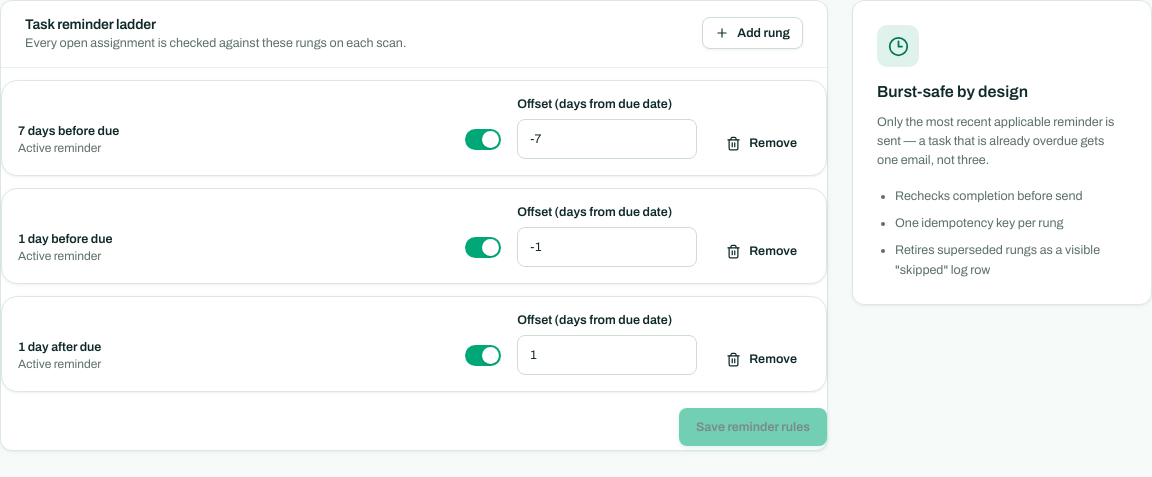
Scenario: RemindersTab ladder editing › removes a rung explicitly, and names the way back once the ladder is empty
Click the button "Remove" in the row of "7 days before due": (762, 143) [713, 127, 810, 159]
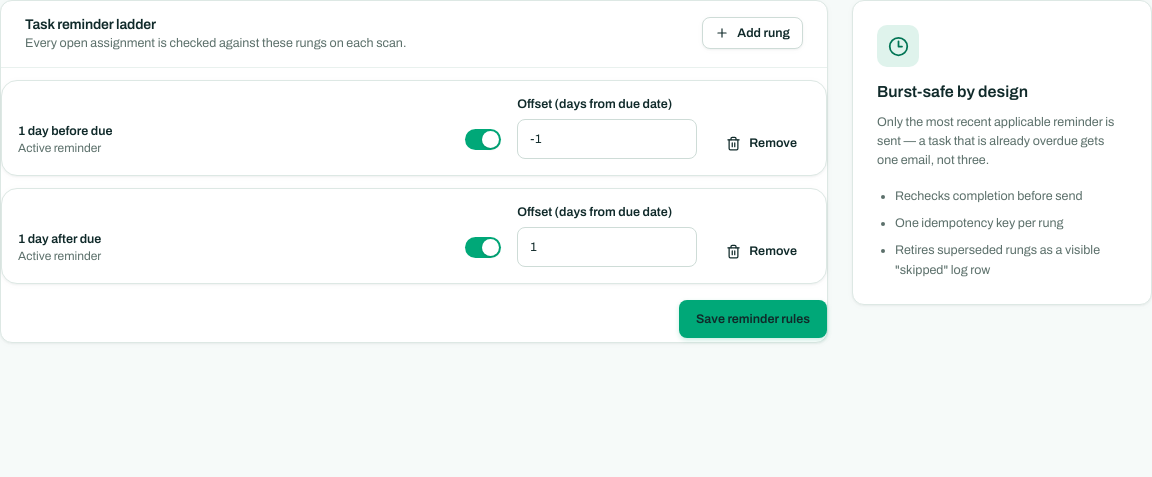
Click the button "Remove" in the row of "1 day before due": (762, 143) [713, 127, 810, 159]
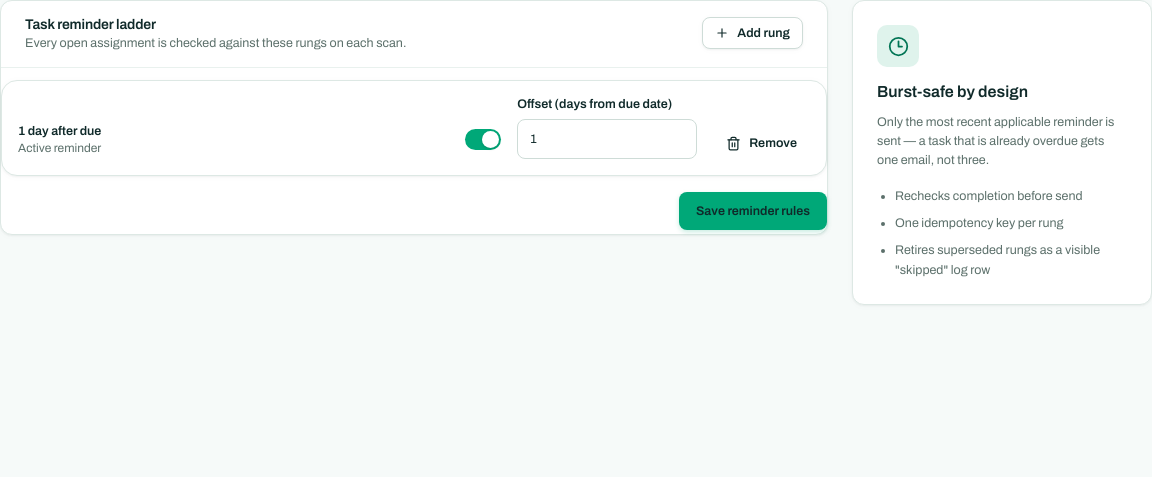
Click the button "Remove": (762, 143) [713, 127, 810, 159]
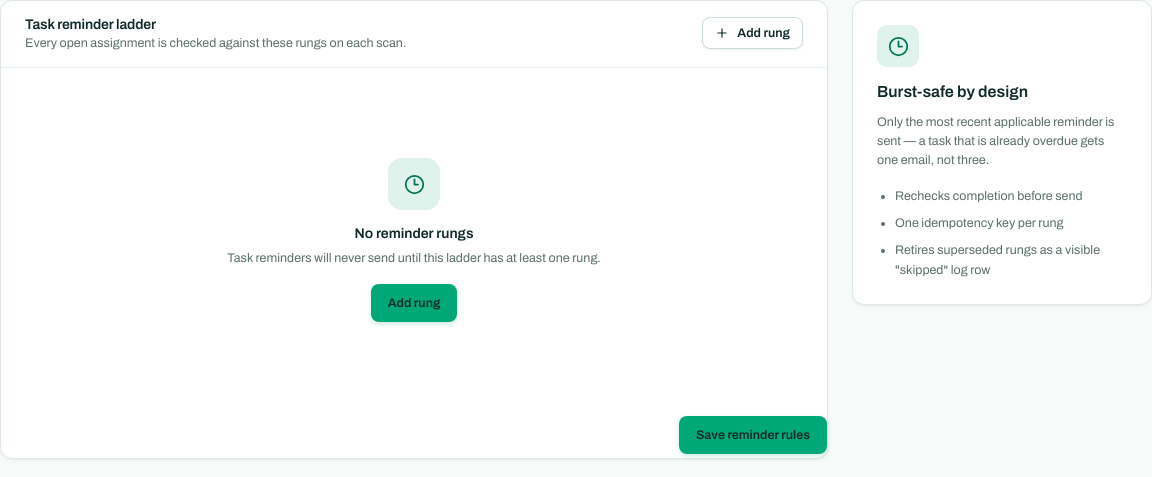
Expected: the button "Add rung" in the row of "Task reminder ladder" is shown, [702, 17, 803, 49]
Result: the text "No reminder rungs" is shown at [354, 226, 474, 241]
